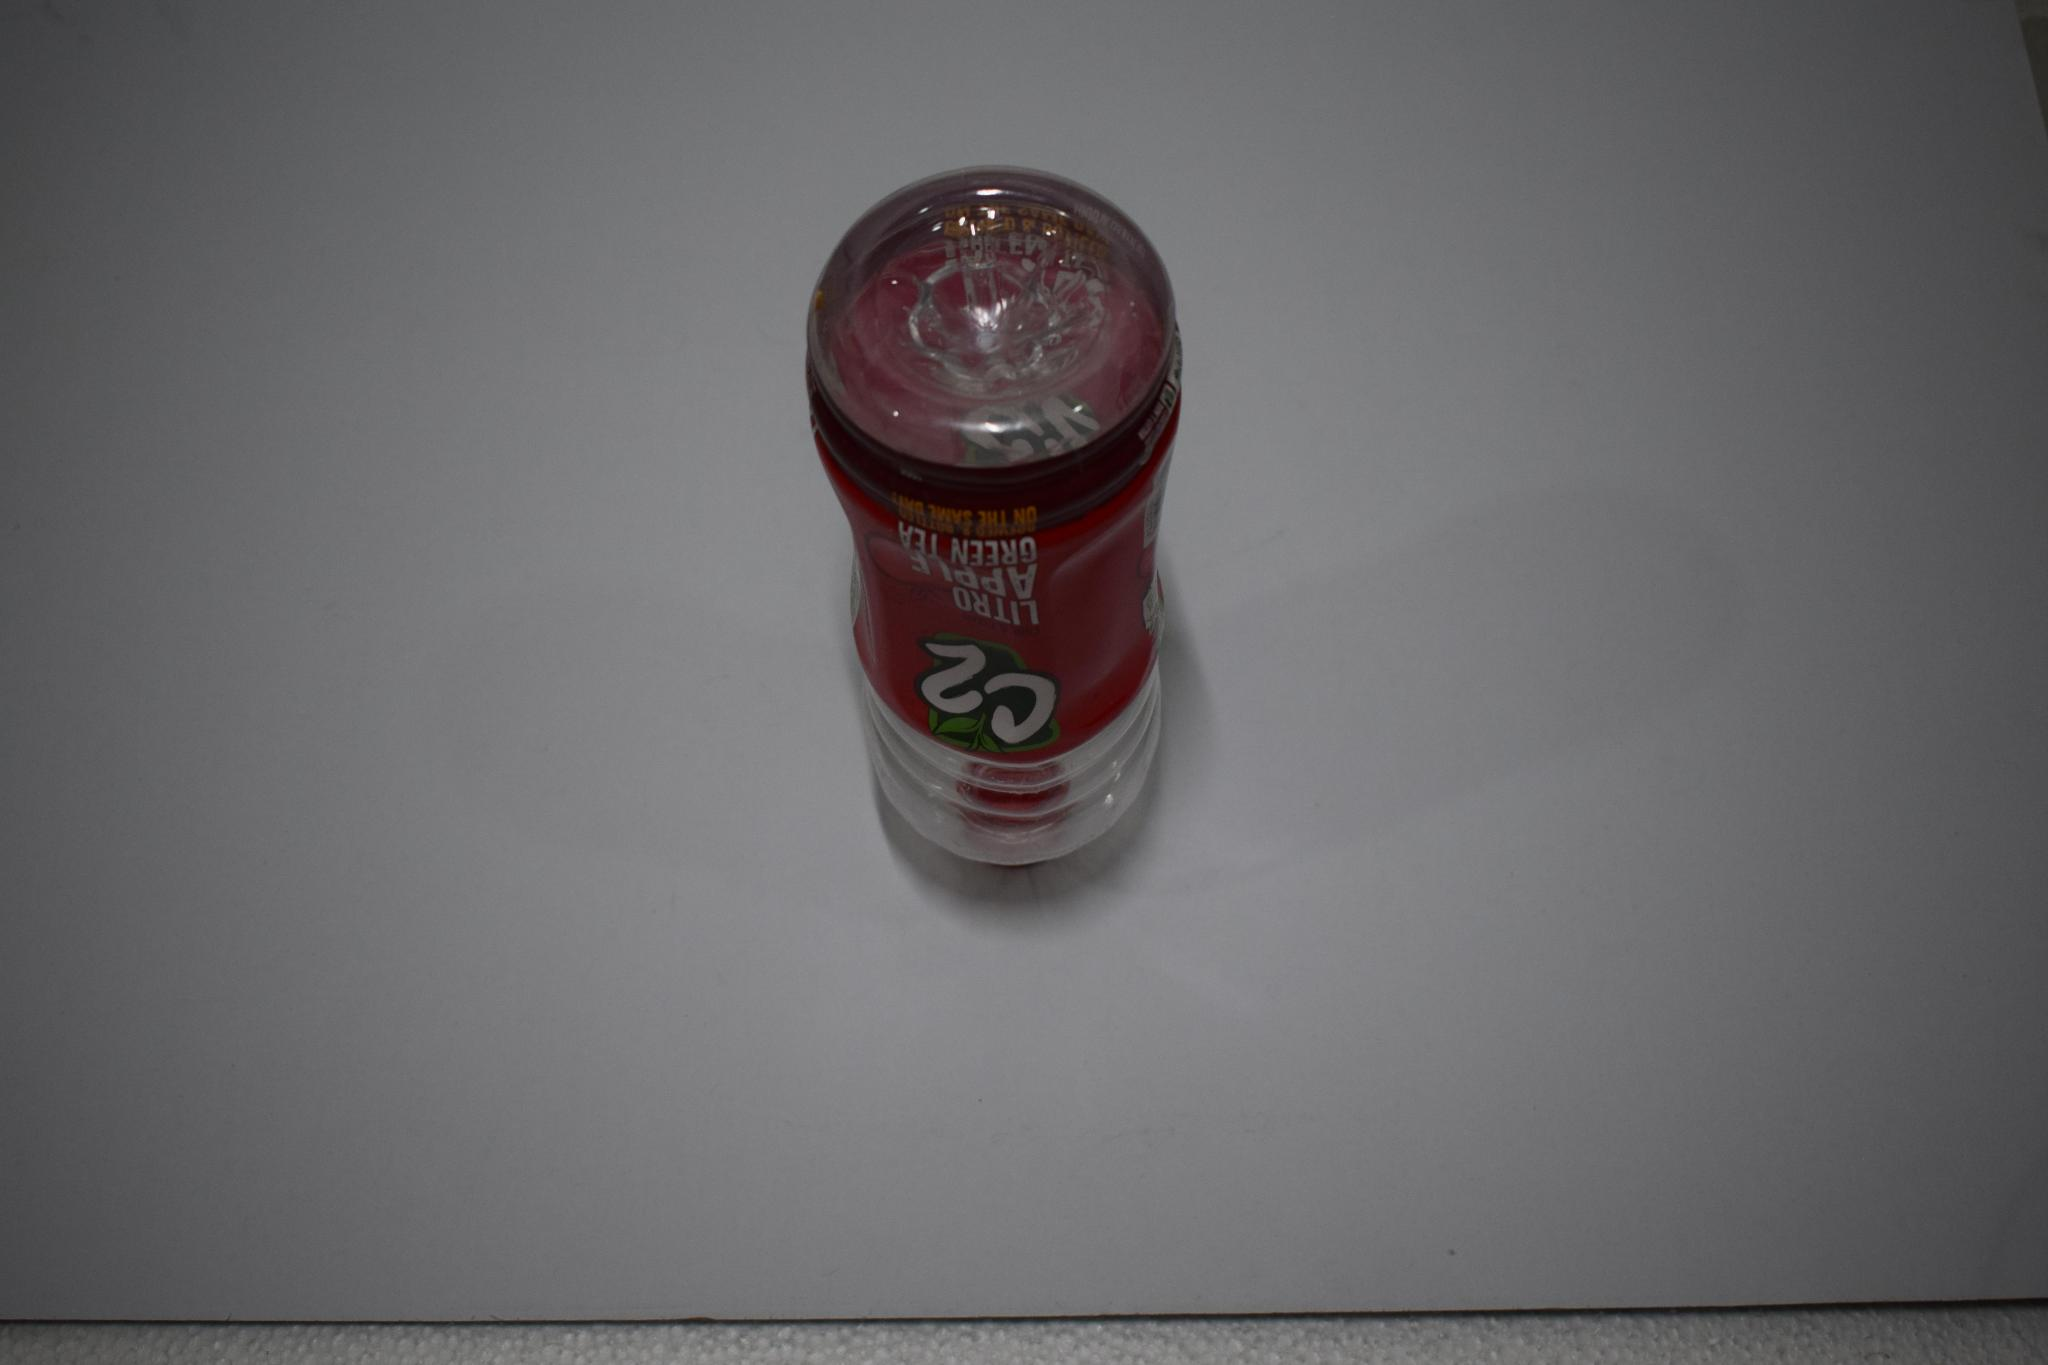bottle: (789, 158, 1182, 887)
